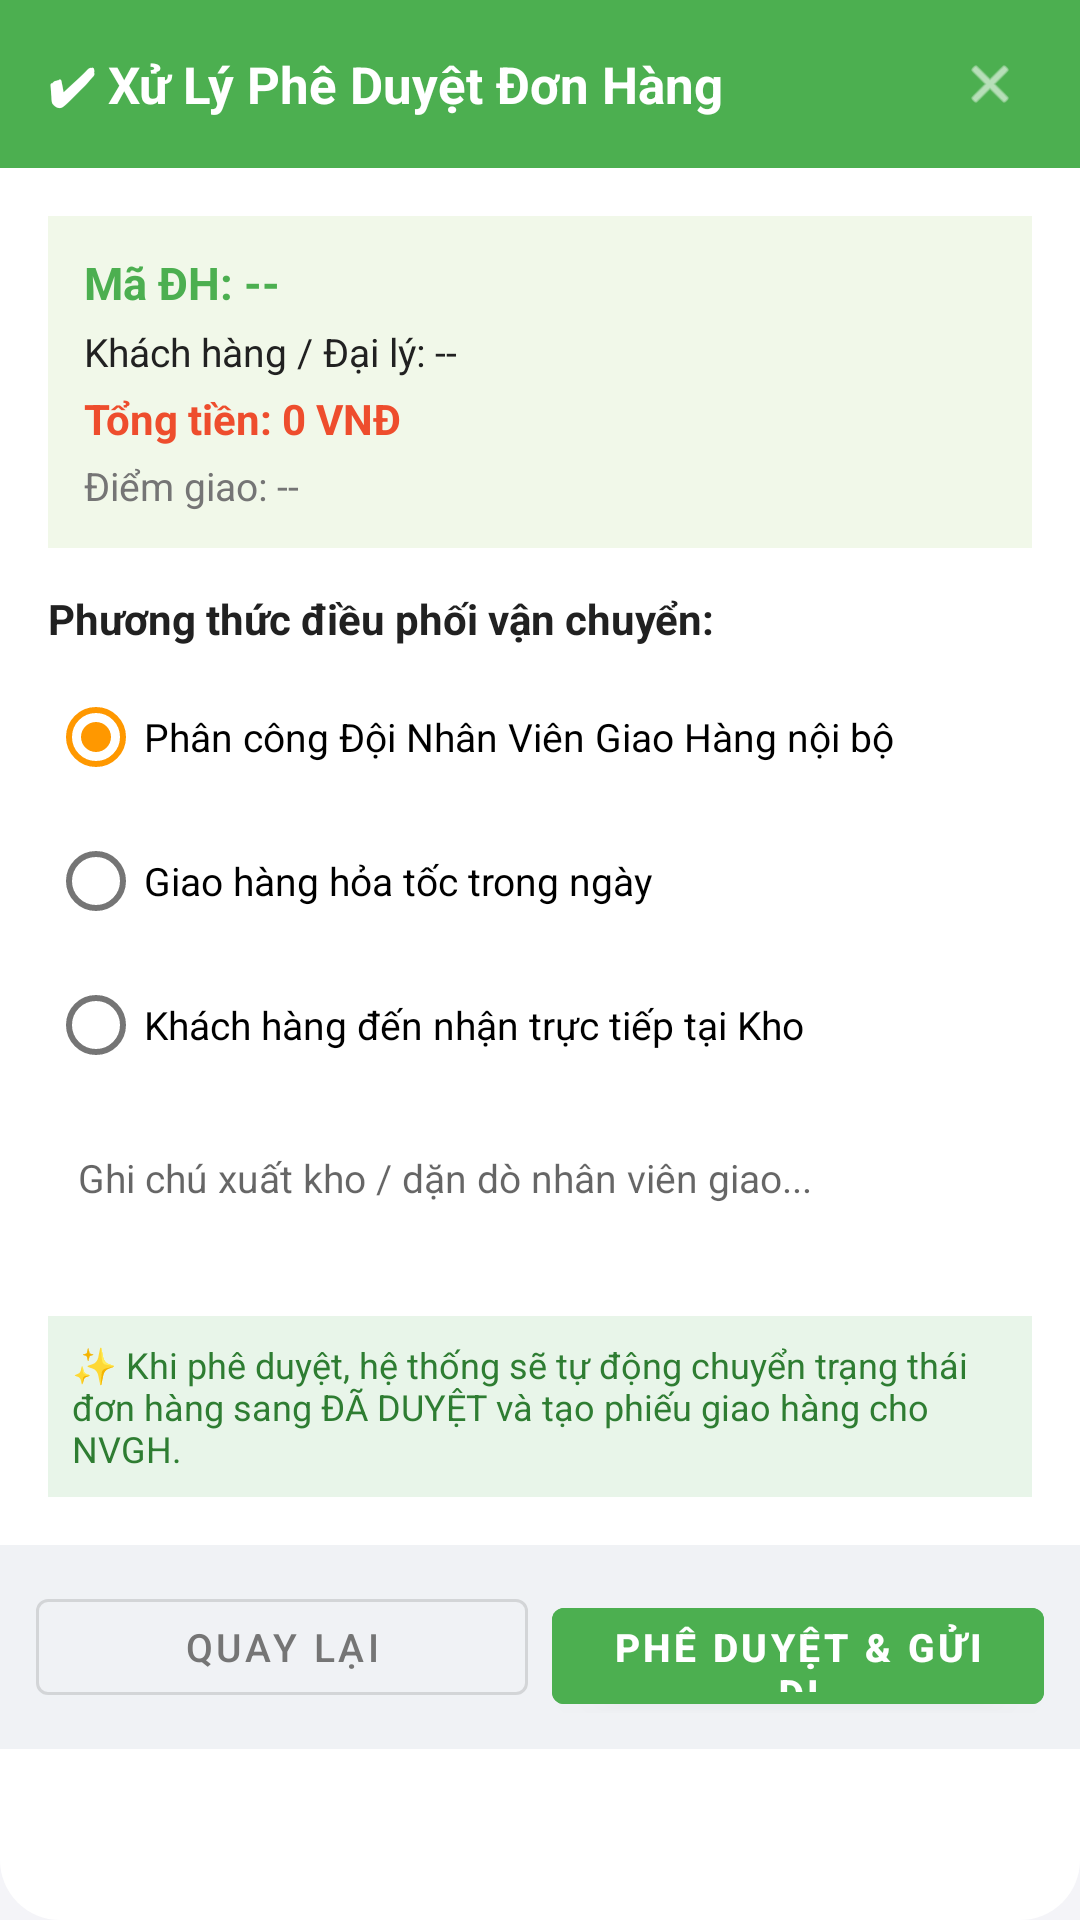

Named icons in this screenshot (1080*1920) and their centers, (x,y):
Đóng: (990,84)
